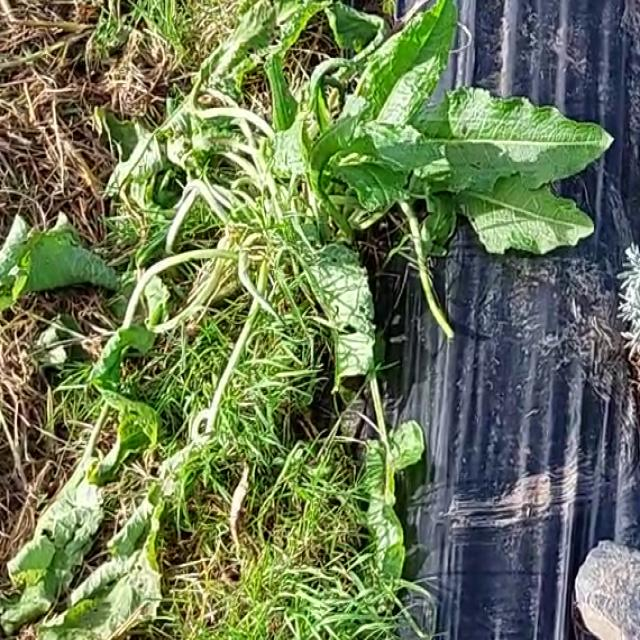organic waste: (76, 5, 606, 299), (256, 242, 461, 638), (26, 334, 267, 640), (0, 204, 208, 387)
